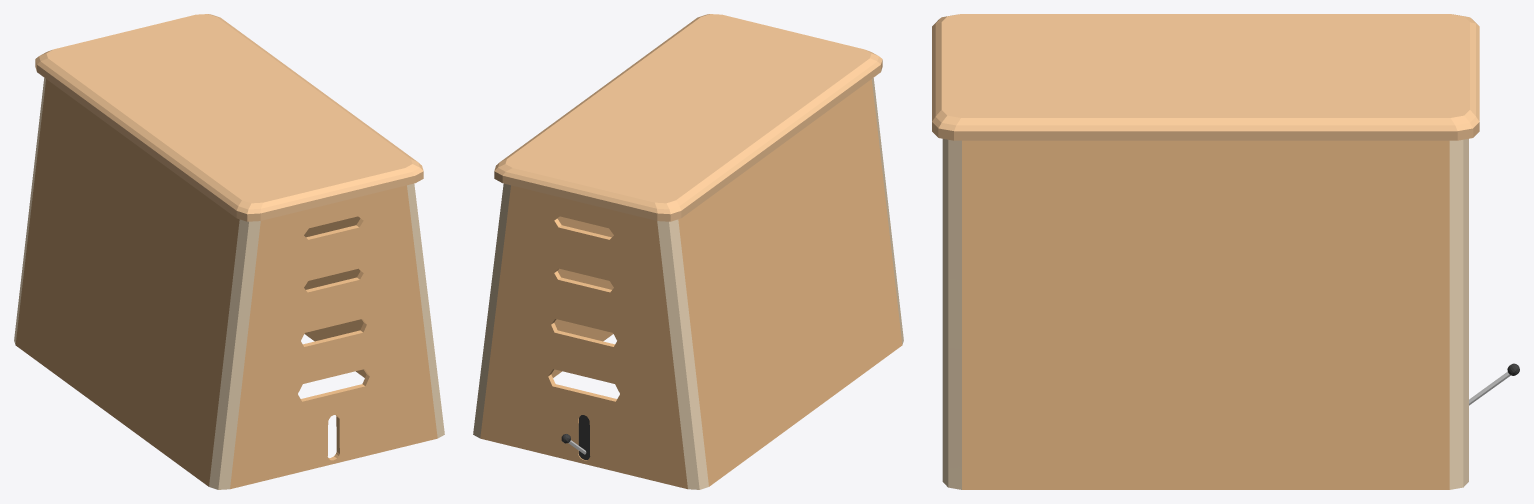
The model's file is kast.fbx.
3 renders of one model, left to right at view 1: azimuth 30°, elevation 25°; view 2: azimuth 150°, elevation 25°; view 3: azimuth 270°, elevation 25°, orthographic. The views are drawn at different scales.
Parts seen in each view (by area): view 1: KastDeel5, KastDeel1, KastDeel2, KastDeel3, KastDeel4; view 2: KastDeel5, KastDeel1, KastDeel2, KastDeel3, KastDeel4; view 3: KastDeel5, KastDeel1, KastDeel3, KastDeel2, KastDeel4.
Boxes of the visible parts, <box> form: KastDeel5: <box>35,14,423,273</box>; KastDeel1: <box>14,287,444,489</box>; KastDeel2: <box>20,233,438,435</box>; KastDeel3: <box>26,179,432,381</box>; KastDeel4: <box>32,125,426,327</box>; KastDeel5: <box>494,14,882,273</box>; KastDeel1: <box>473,287,903,489</box>; KastDeel2: <box>479,233,897,435</box>; KastDeel3: <box>485,179,891,381</box>; KastDeel4: <box>491,125,885,327</box>; KastDeel5: <box>932,14,1479,209</box>; KastDeel1: <box>942,363,1519,489</box>; KastDeel3: <box>942,272,1468,349</box>; KastDeel2: <box>942,342,1468,419</box>; KastDeel4: <box>942,202,1468,279</box>.
Bounding box in the file's own units: 1.3 × 1.51 × 2.23.
